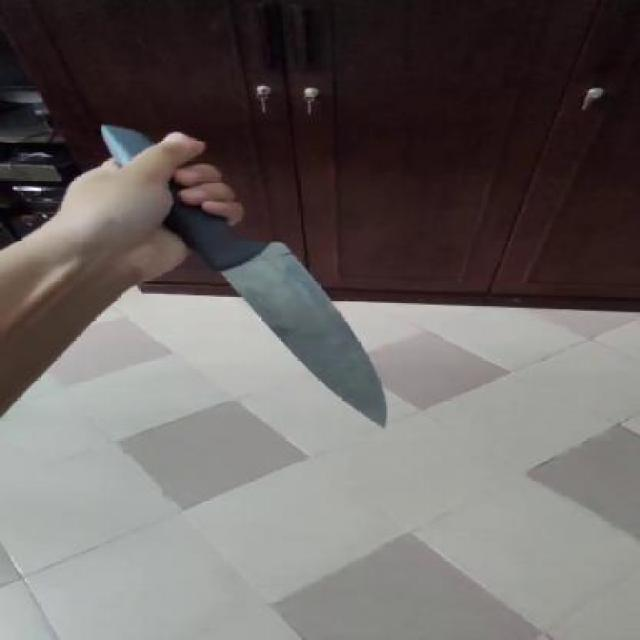-: (180, 251, 420, 431)
